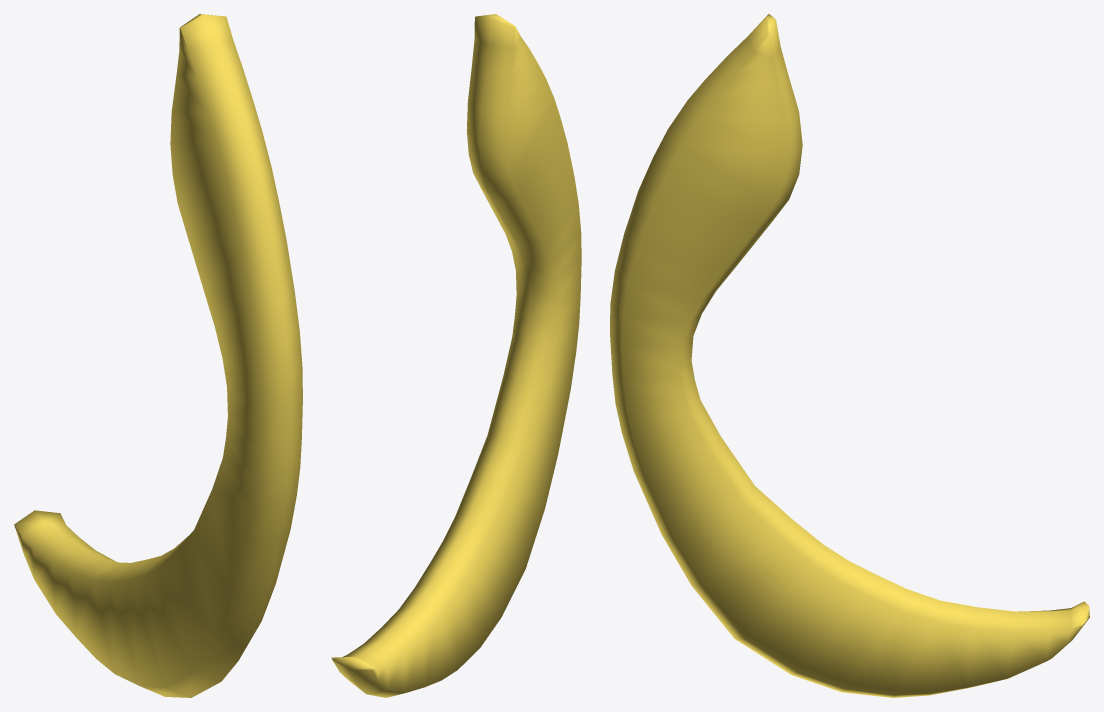
3 views of the same model, side by side, from view 1: azimuth 30°, elevation 25°; view 2: azimuth 150°, elevation 25°; view 3: azimuth 270°, elevation 25° (orthographic). The views are drawn at different scales.
Parts seen in each view (by area): view 1: ra; view 2: ra; view 3: ra.
Part boxes in pixels (x1,y1,x2,y2): ra: (14, 14, 302, 697); ra: (331, 14, 581, 697); ra: (610, 14, 1089, 697).
Bounding box in the file's own units: 15.59 × 144 × 225.
Materials: 1 (1 with a texture image).
